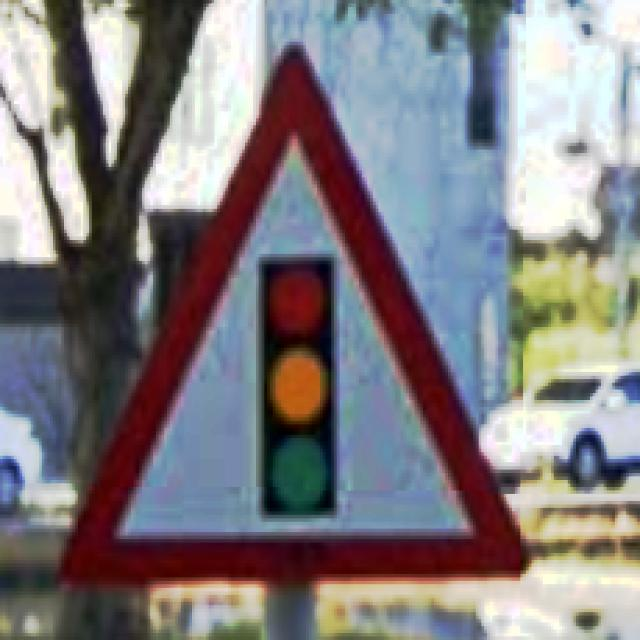signalahead: (64, 55, 523, 582)
